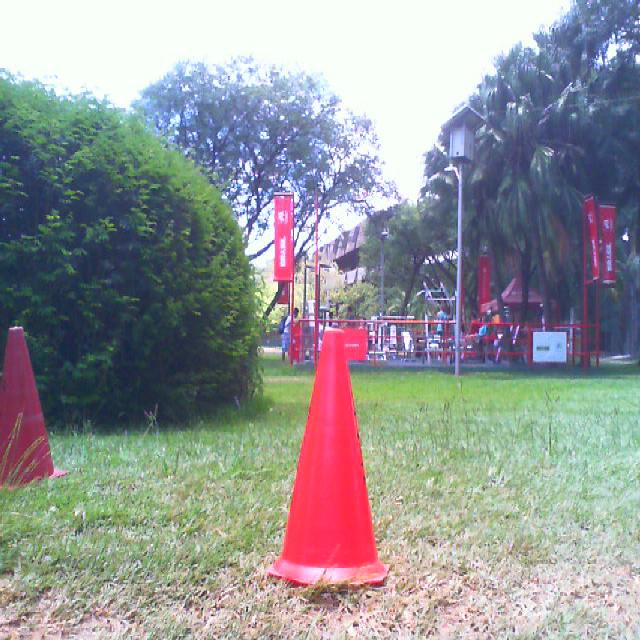cone: (264, 328, 391, 589), (0, 327, 72, 489)
